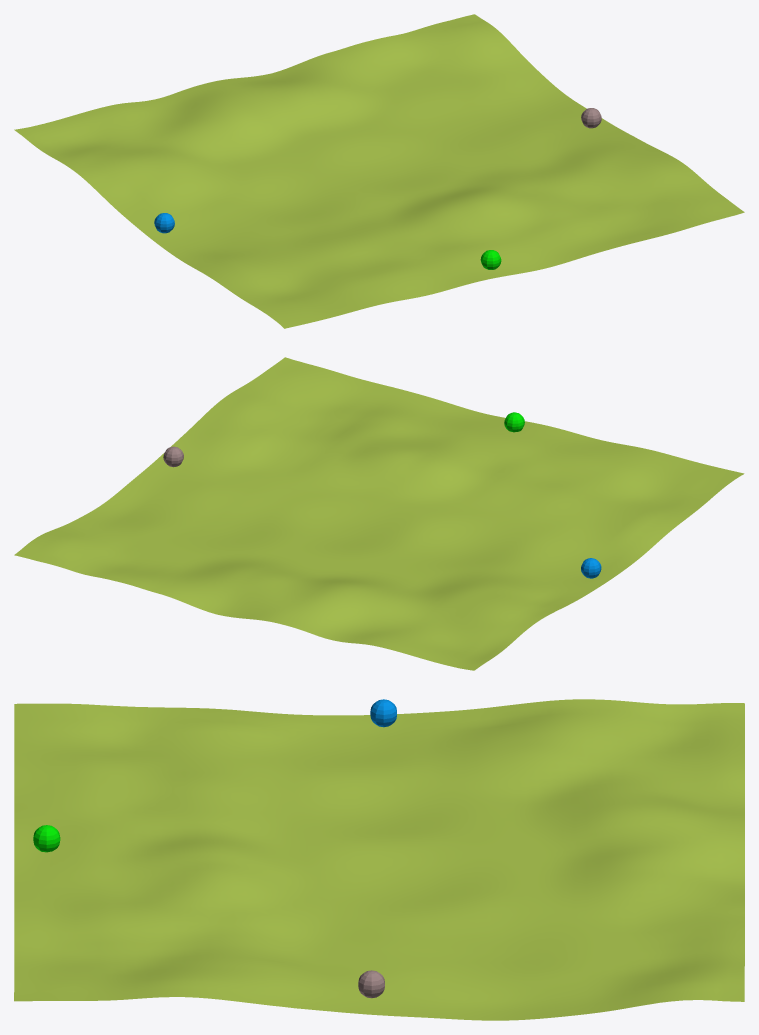
File: marqueurs_carre12.fbx
3 views of the same model, one above another, from view 1: azimuth 30°, elevation 25°; view 2: azimuth 150°, elevation 25°; view 3: azimuth 270°, elevation 25° (orthographic). The views are drawn at different scales.
Visible parts, largest first — view 1: carre12; view 2: carre12; view 3: carre12, pSphere76, pSphere78, pSphere77.
Part boxes in pixels (x1,y1,x2,y2): carre12: (14,14,744,328); carre12: (14,357,744,670); carre12: (14,699,744,1020); pSphere76: (370,699,396,727); pSphere78: (358,970,384,998); pSphere77: (33,825,60,852).
Size of the model in its own units: 708 by 40.1 by 721.
